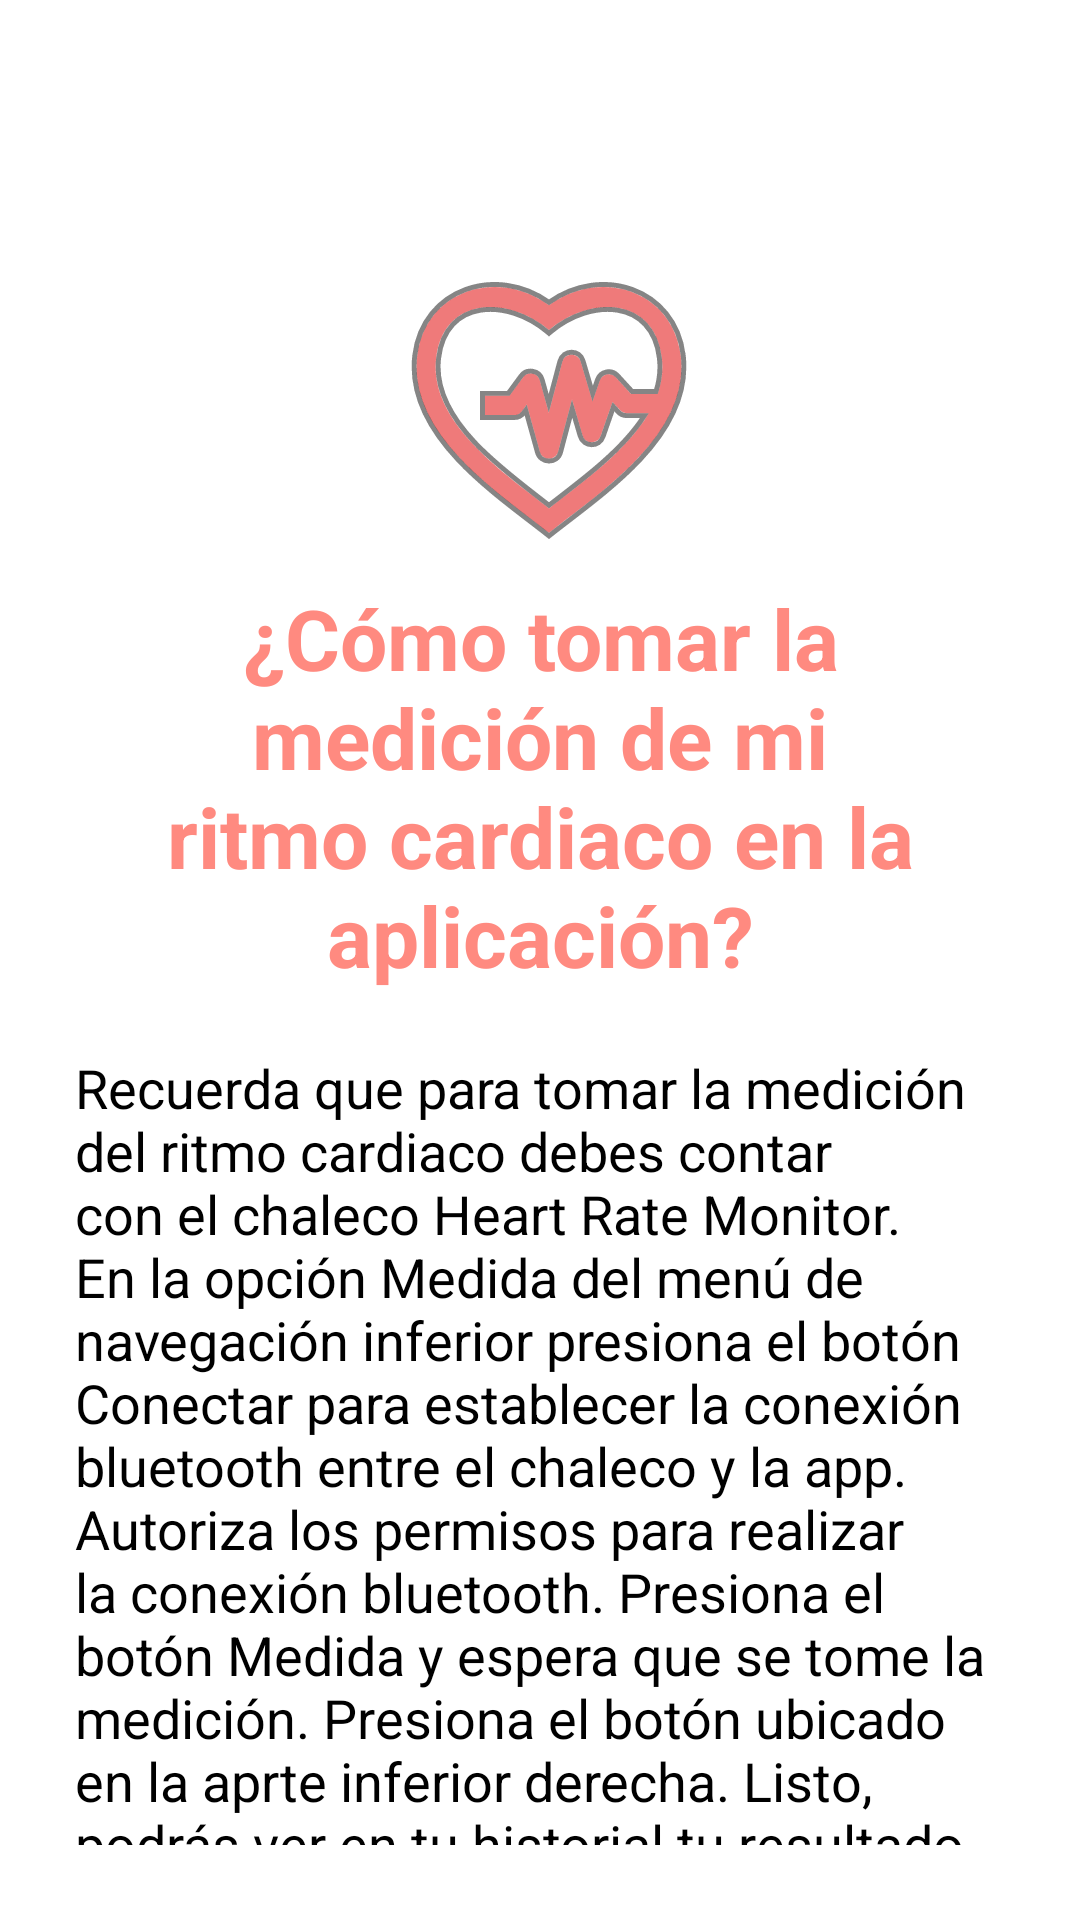

Named icons in this screenshot (1080 x 1920) and their bounding boxes, [left=x1, top=y1, right=x2, bottom=y2]:
corazon: [left=411, top=282, right=687, bottom=539]
